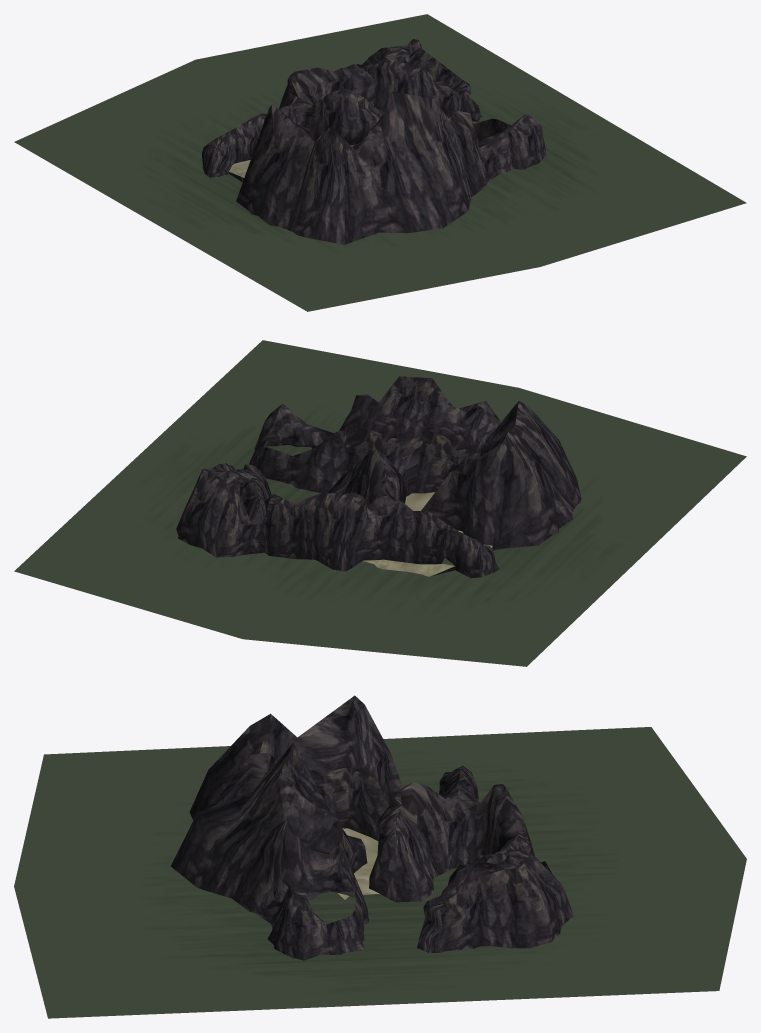
Rendered from pir_m_are_isl_ravensCove_worldmap.fbx.
3 renders of one model, top to bottom at view 1: azimuth 30°, elevation 25°; view 2: azimuth 150°, elevation 25°; view 3: azimuth 270°, elevation 25°, orthographic. The views are drawn at different scales.
Parts seen in each view (by area): view 1: sketchmark, polySurface6; view 2: sketchmark, polySurface6, polySurface4; view 3: sketchmark, polySurface6, polySurface4.
Boxes of the visible parts, box(x1,y1,x2,y2) form: sketchmark: box(14, 14, 746, 311); polySurface6: box(202, 39, 546, 244); sketchmark: box(14, 340, 746, 666); polySurface6: box(176, 376, 581, 578); polySurface4: box(363, 492, 492, 576); sketchmark: box(14, 727, 746, 1018); polySurface6: box(170, 695, 573, 960); polySurface4: box(338, 828, 379, 899).
Bounding box in the file's own units: 32.43 × 7.44 × 34.43.
Materials: 2 (2 with a texture image).
